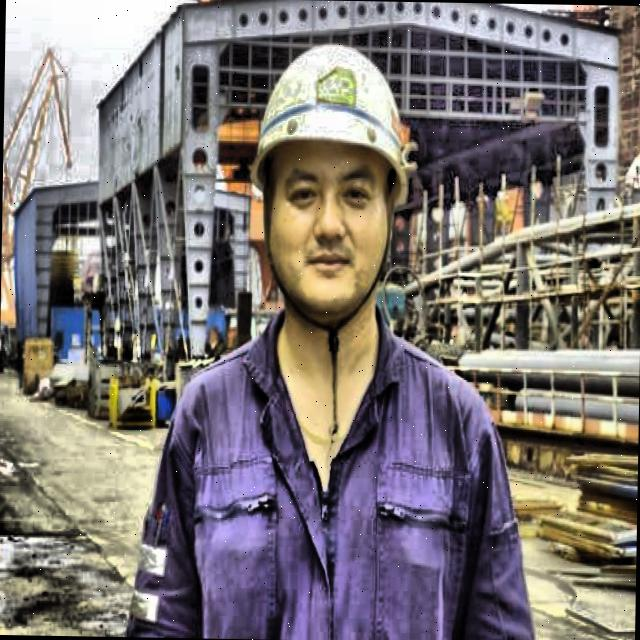helmet: (232, 20, 428, 336)
